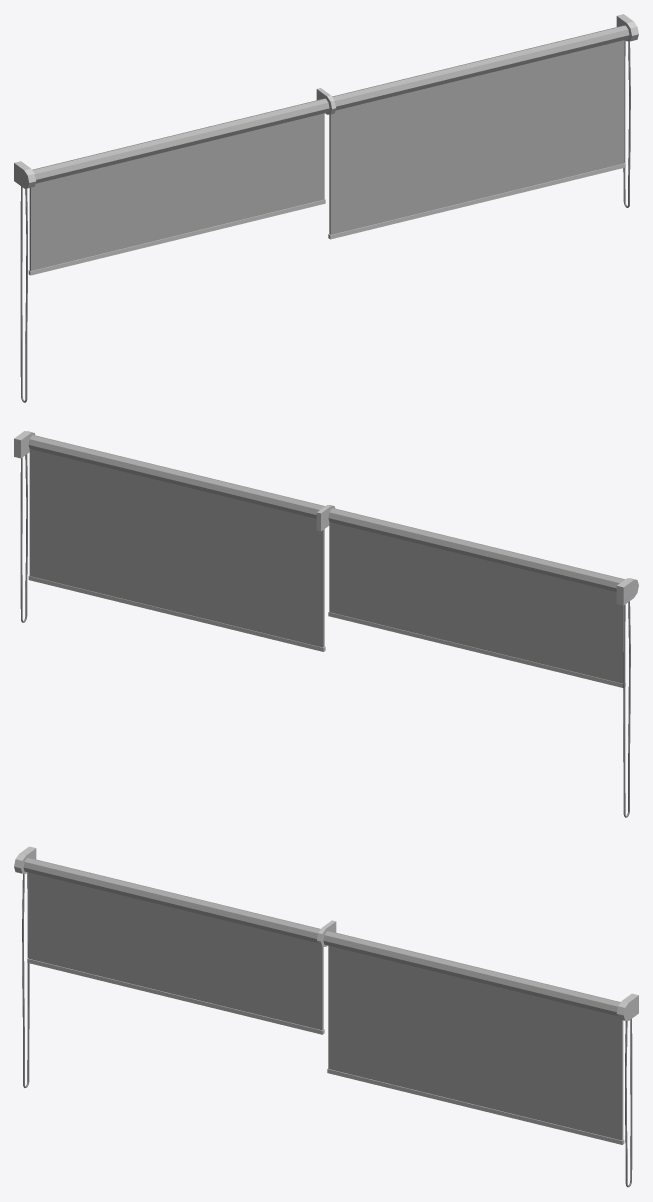
Rendered from Curtains6_C3.fbx.
3 views of the same model, one above another, from view 1: azimuth 30°, elevation 25°; view 2: azimuth 150°, elevation 25°; view 3: azimuth 330°, elevation 25° (orthographic).
Parts seen in each view (by area): view 1: Curtains6_C3; view 2: Curtains6_C3; view 3: Curtains6_C3.
Part boxes in pixels (bbox=[...]): Curtains6_C3: bbox=[14, 14, 638, 402]; Curtains6_C3: bbox=[14, 431, 638, 817]; Curtains6_C3: bbox=[14, 846, 638, 1187].
Bounding box in the file's own units: 221 × 81.55 × 9.55.
